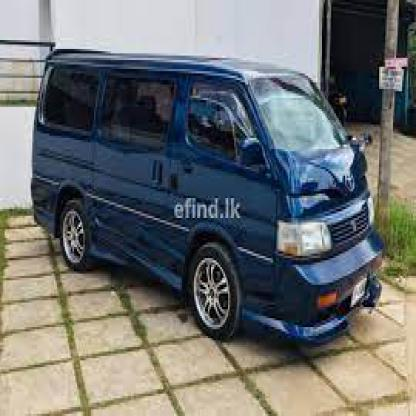van: (28, 44, 385, 336)
